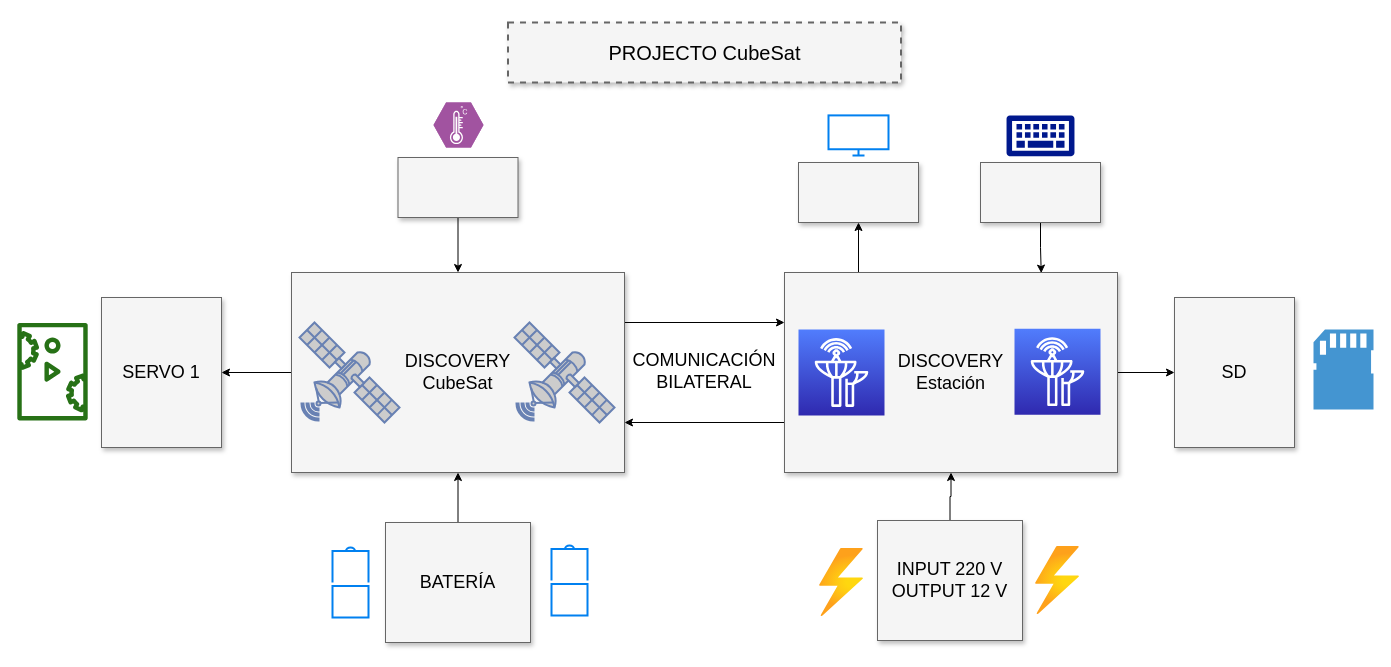
This 1391x667 diagram has some shape labels left out. The shapes that lost their labels are listed below. From the top down, each one's centre as x and y in pixels, then its label:
At pixel 458 188: "SENSOR TEMP".
At pixel 859 194: "DISPLAY LCD".
At pixel 1041 194: "TECLADO MATRICIAL".
